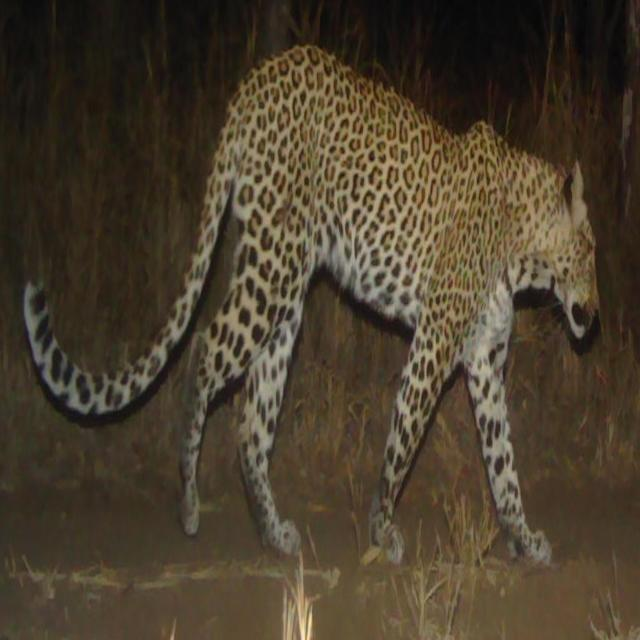Leopard: (13, 72, 612, 607)
